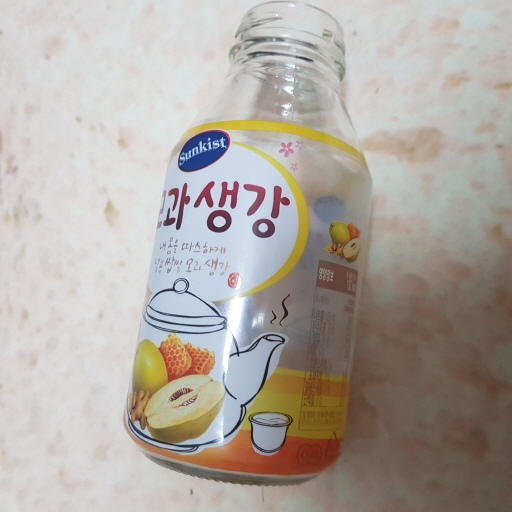Glass_4: (124, 2, 369, 484)
